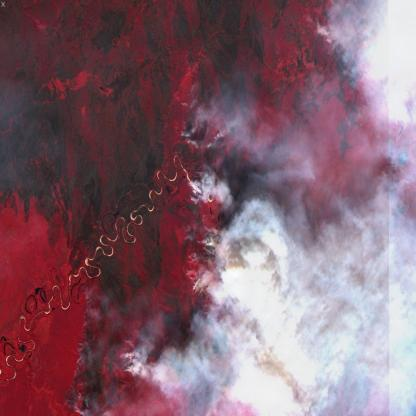fire: (67, 291, 102, 416), (182, 213, 214, 302), (180, 94, 207, 152), (121, 330, 141, 385), (183, 166, 210, 201)
